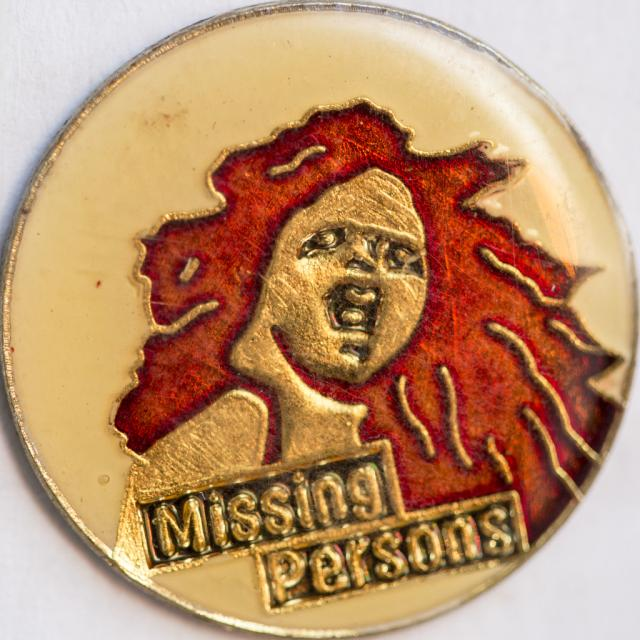Coin: (0, 2, 640, 638)
